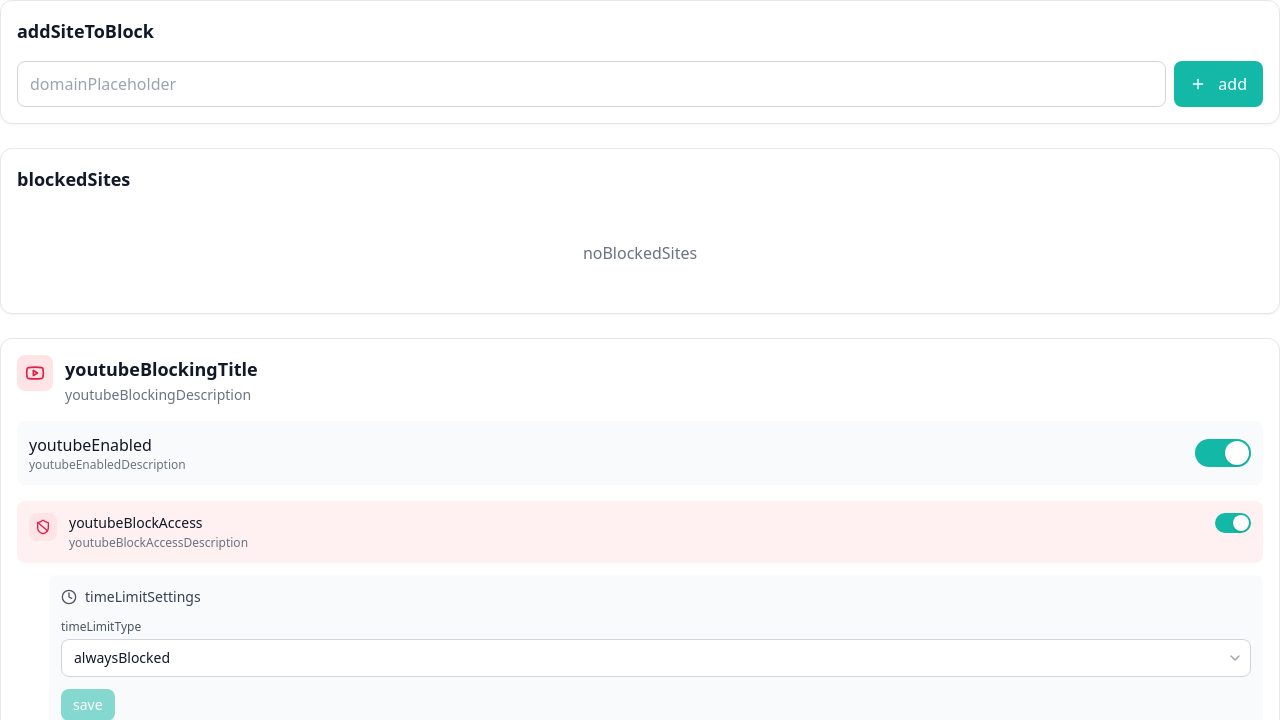
Test case: BlocklistTab › YouTube のブロックを弱める操作 › 主トグルを OFF にすると youtube.com の長押し確認が開き、まだ切らない
Click the switch in the row of "youtubeEnabledDescription" at (1223, 453), box [1195,439,1251,467]
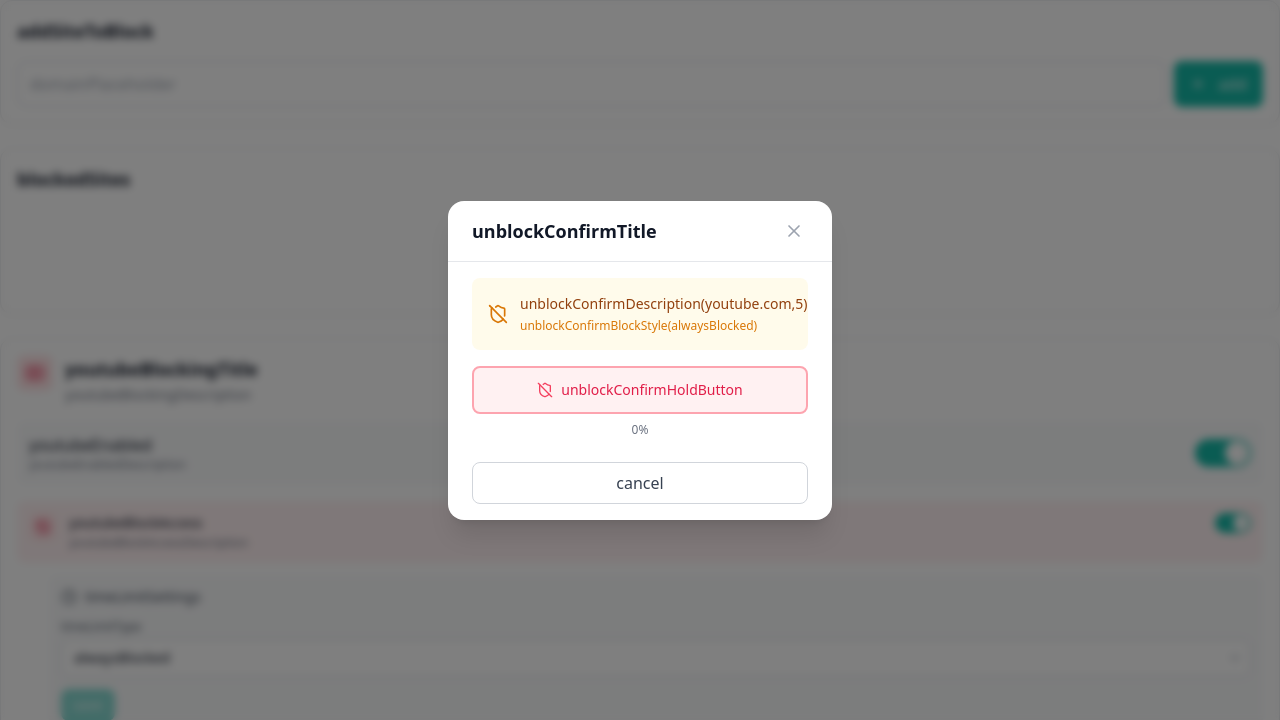
Expected: the button with test id "unblock-confirm-hold-button" is shown, [472,366,808,414]
Expected: the text "unblockConfirmDescription(youtube.com,5)" is shown, [520,294,808,314]
Expected: the text "unblockConfirmBlockStyle(alwaysBlocked)" is shown, [520,316,757,334]
